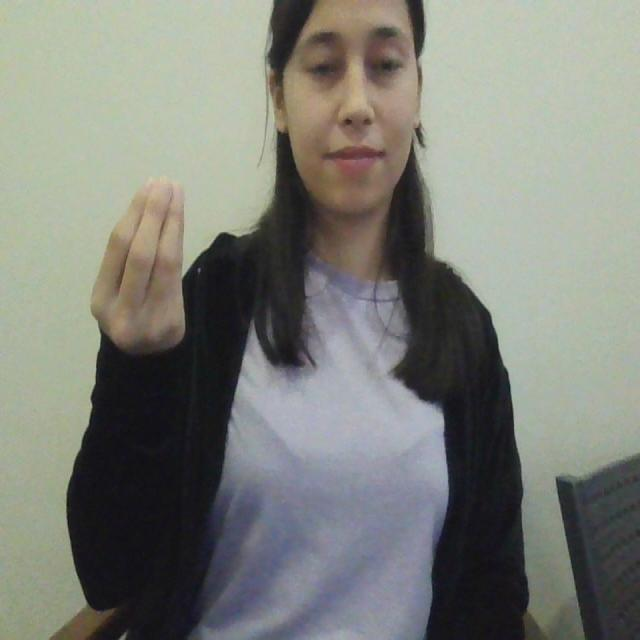iyi: (82, 169, 198, 365)
